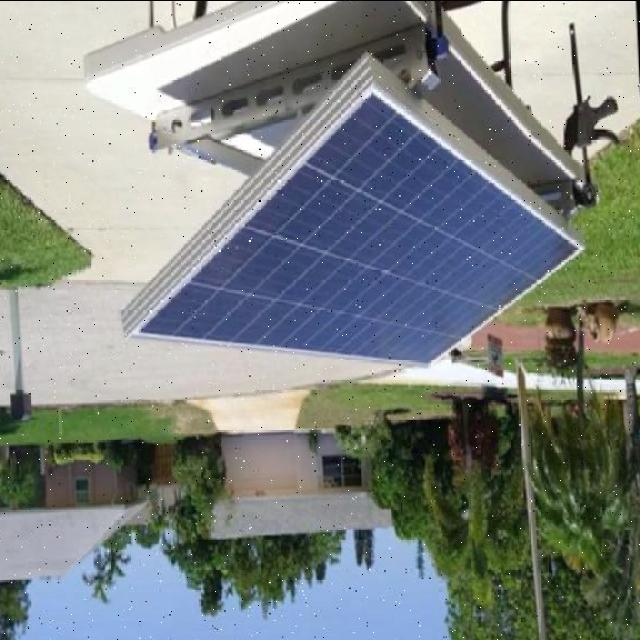Normal Solar Panel: (113, 66, 589, 377)
